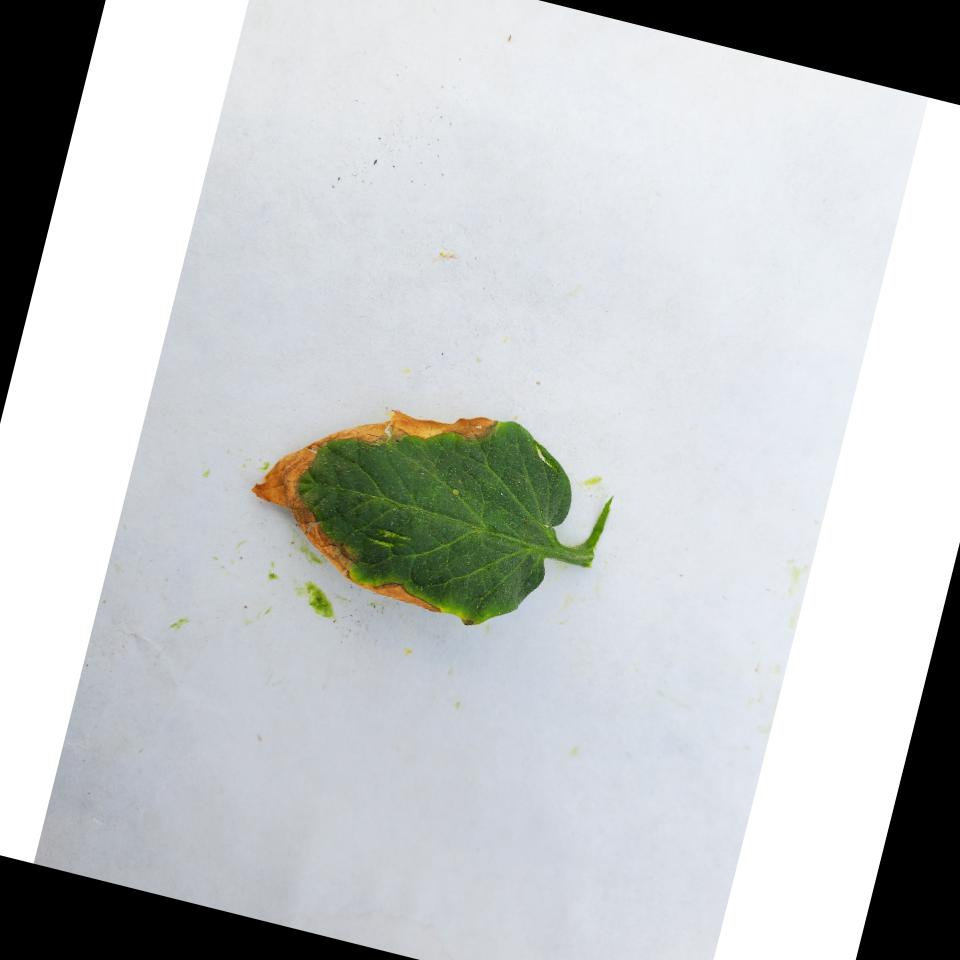tomato_bacterial_blight: (230, 373, 634, 654)
